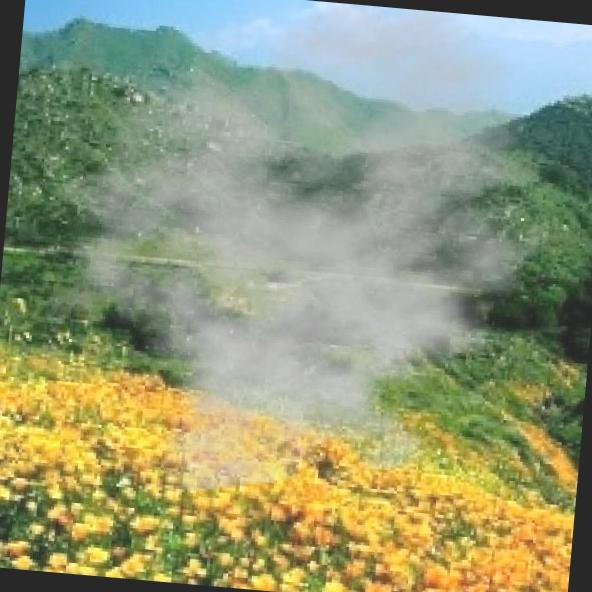smoke: (24, 0, 592, 528)
